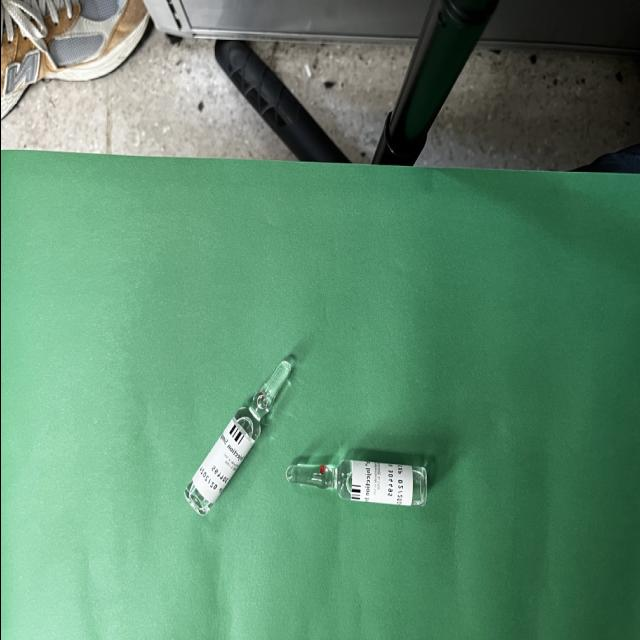Ampoules: (184, 361, 292, 517), (285, 460, 426, 507)
